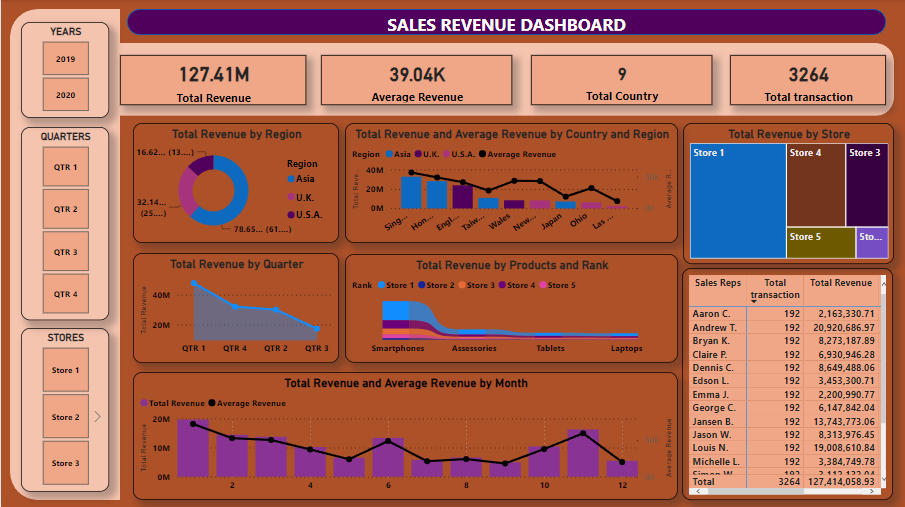

Layout of this report page (visuals, bound fields, positions):
{"tool":"powerbi","page":{"name":"Page 1","canvas":[1280,720],"ordinal":0},"visuals":[{"type":"shape","box":[12.8,14.2,155.9,695.9],"z":0},{"type":"shape","box":[168.7,62.4,1097,103.5],"z":1000},{"type":"card","fields":{"Values":["Measures (2).Total Revenue"]},"box":[168.7,79.4,263.6,70.9],"z":2000},{"type":"card","fields":{"Values":["Measures (2).Average Revenue"]},"box":[453.5,79.4,270.7,70.9],"z":3000},{"type":"card","fields":{"Values":["Measures (2).Total Country"]},"box":[751.2,79.4,256.5,70.9],"z":4000},{"type":"card","fields":{"Values":["Measures (2).Total transaction"]},"box":[1033.2,79.4,221.1,70.9],"z":5000},{"type":"donutChart","fields":{"Y":["Measures (2).Total Revenue"],"Category":["Sheet1.Region"]},"box":[187.1,175.7,292,170.1],"z":6000},{"type":"lineStackedColumnComboChart","fields":{"Category":["Sheet1.Country"],"Y":["Measures (2).Total Revenue"],"Y2":["Measures (2).Average Revenue"],"Series":["Sheet1.Region"]},"box":[487.6,175.7,472,170.1],"z":7000},{"type":"treemap","title":"Total Revenue by Store","fields":{"Values":["Measures (2).Total Revenue"],"Group":["Sheet1.Rank"]},"box":[966.6,175.7,299.1,199.8],"z":8000},{"type":"areaChart","fields":{"Y":["Measures (2).Total Revenue"],"Category":["Sheet1.Quarter"]},"box":[187.1,360,292,155.9],"z":9000},{"type":"ribbonChart","fields":{"Category":["Sheet1.Products"],"Y":["Measures (2).Total Revenue"],"Series":["Sheet1.Rank"]},"box":[487.6,361.4,472,154.5],"z":10000},{"type":"pivotTable","fields":{"Rows":["Sheet1.Sales Reps"],"Values":["Measures (2).Total transaction","Measures (2).Total Revenue","Measures (2).Average Revenue"]},"box":[965.2,381.3,299.1,328.8],"z":11000},{"type":"lineStackedColumnComboChart","fields":{"Y":["Measures (2).Total Revenue"],"Y2":["Measures (2).Average Revenue"],"Category":["Sheet1.Month"]},"box":[187.1,528.7,772.4,181.4],"z":12000},{"type":"slicer","title":"YEARS","fields":{"Values":["Sheet1.Years"]},"box":[28.3,32.6,124.7,136.1],"z":13000},{"type":"slicer","title":"QUARTERS","fields":{"Values":["Sheet1.Quarter"]},"box":[28.3,181.4,124.7,273.5],"z":14000},{"type":"slicer","title":"STORES","fields":{"Values":["Sheet1.Rank"]},"box":[28.3,466.3,124.7,232.4],"z":15000},{"type":"shape","box":[178.6,14.2,1075.7,36.9],"z":16000}]}

Visuals, with their boxes in screenshot pixels (x1, y1, x2, y2), scaled from the page's 1280x720 canvas onto the 905x507 screenshot:
shape: (9,10,119,500)
shape: (119,44,895,117)
card - Measures (2).Total Revenue: (119,56,306,106)
card - Measures (2).Average Revenue: (321,56,512,106)
card - Measures (2).Total Country: (531,56,712,106)
card - Measures (2).Total transaction: (731,56,887,106)
donutChart - Measures (2).Total Revenue x Sheet1.Region: (132,124,339,244)
lineStackedColumnComboChart - Sheet1.Country x Measures (2).Total Revenue: (345,124,678,244)
"Total Revenue by Store" treemap: (683,124,895,264)
areaChart - Measures (2).Total Revenue x Sheet1.Quarter: (132,254,339,363)
ribbonChart - Sheet1.Products x Measures (2).Total Revenue: (345,254,678,363)
pivotTable - Sheet1.Sales Reps x Measures (2).Total transaction: (682,268,894,500)
lineStackedColumnComboChart - Measures (2).Total Revenue x Measures (2).Average Revenue: (132,372,678,500)
"YEARS" slicer: (20,23,108,119)
"QUARTERS" slicer: (20,128,108,320)
"STORES" slicer: (20,328,108,492)
shape: (126,10,887,36)
